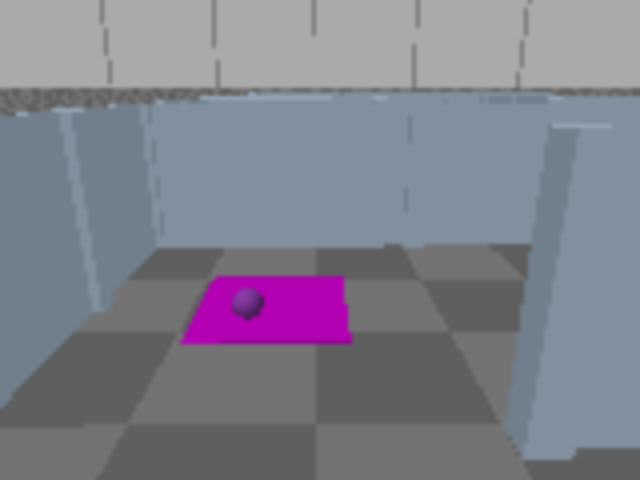goal_zone: (180, 276, 351, 345)
puck: (230, 282, 264, 325)
